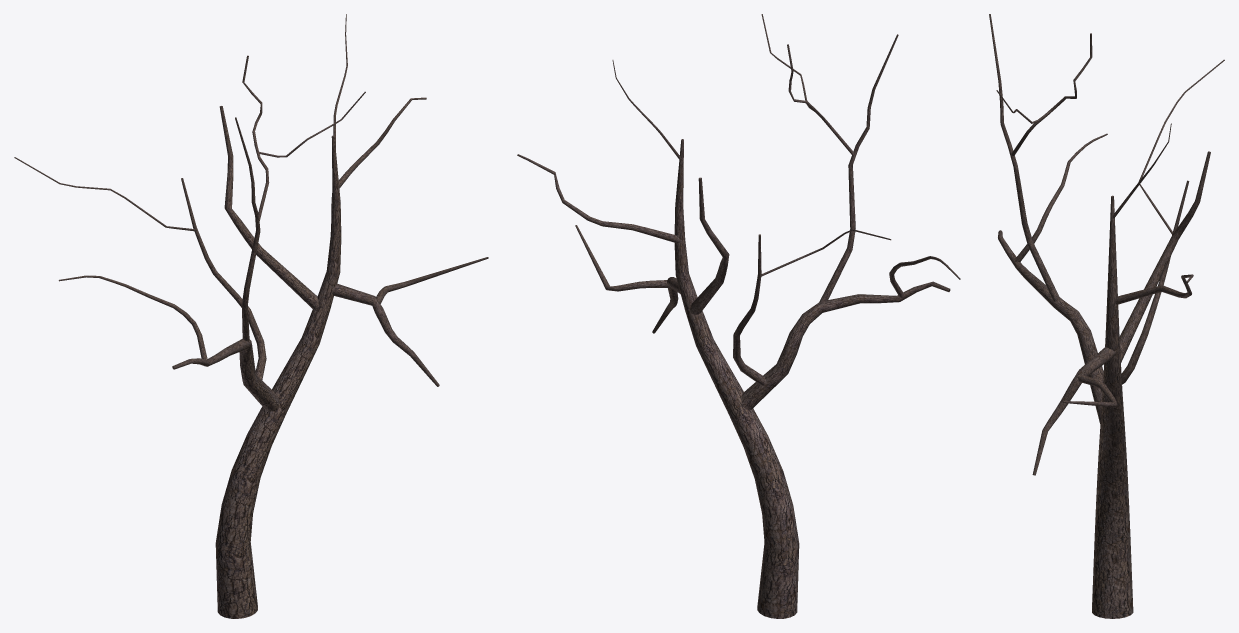
The model's file is tree-2.FBX.
3 renders of one model, left to right at view 1: azimuth 30°, elevation 25°; view 2: azimuth 150°, elevation 25°; view 3: azimuth 270°, elevation 25°, orthographic. The views are drawn at different scales.
Parts seen in each view (by area): view 1: main_trank; view 2: main_trank; view 3: main_trank.
Boxes of the visible parts, x1=… form: main_trank: x1=14, y1=14, x2=488, y2=618; main_trank: x1=517, y1=14, x2=960, y2=618; main_trank: x1=989, y1=14, x2=1224, y2=618.
Size of the model in its own units: 1405 by 1848 by 682.
Materials: 1 (1 with a texture image).
